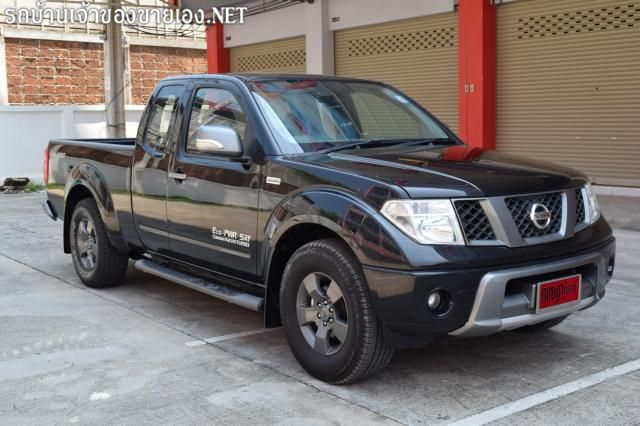pickup: (38, 71, 617, 387)
